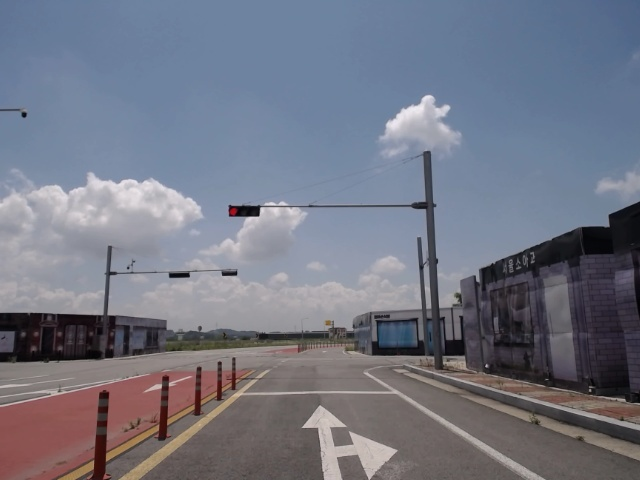red_3: (229, 205, 260, 217)
